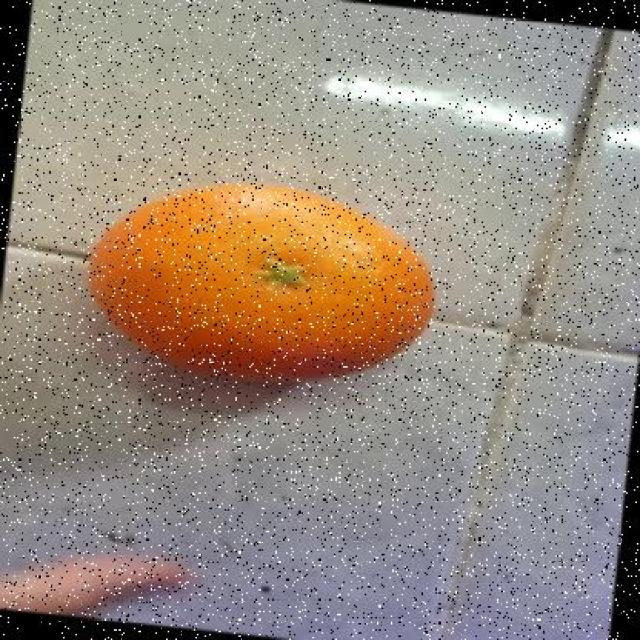Orange: (84, 180, 436, 385)
